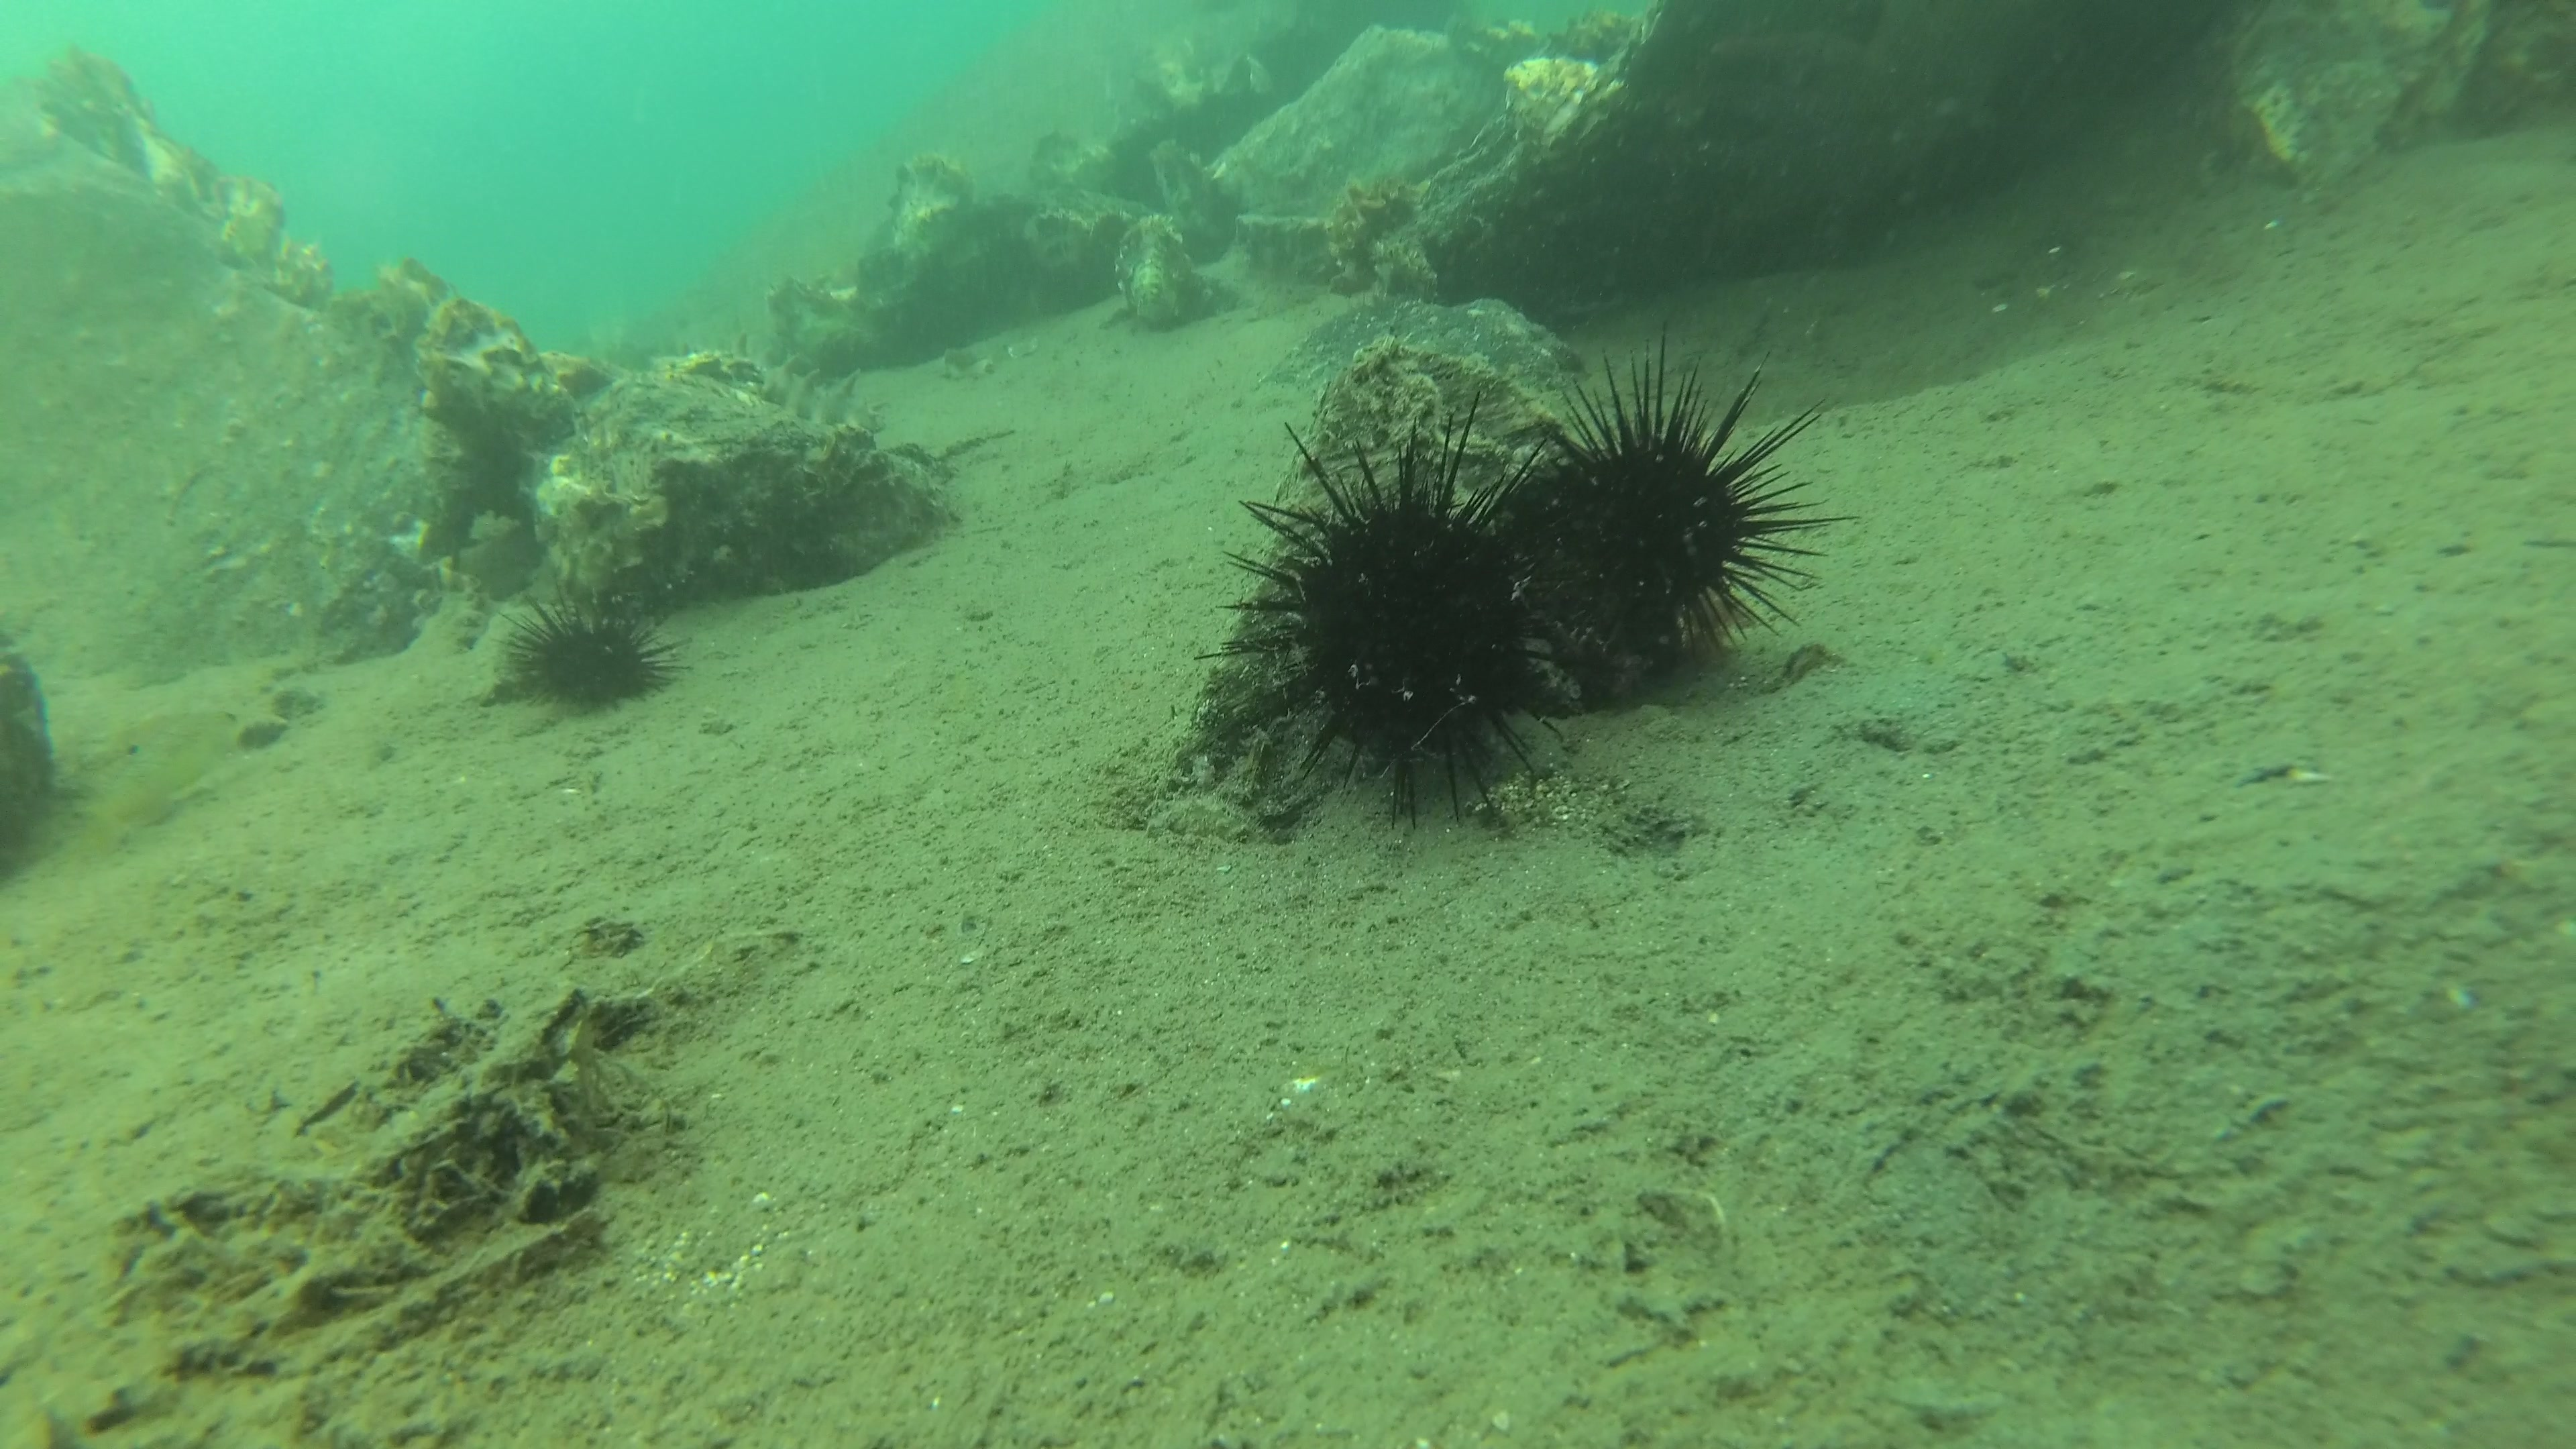echinus: (1191, 389, 1585, 824), (1491, 315, 1863, 678), (488, 580, 695, 715)
holothurian: (649, 333, 892, 433)
starfish: (1706, 0, 2017, 234)
